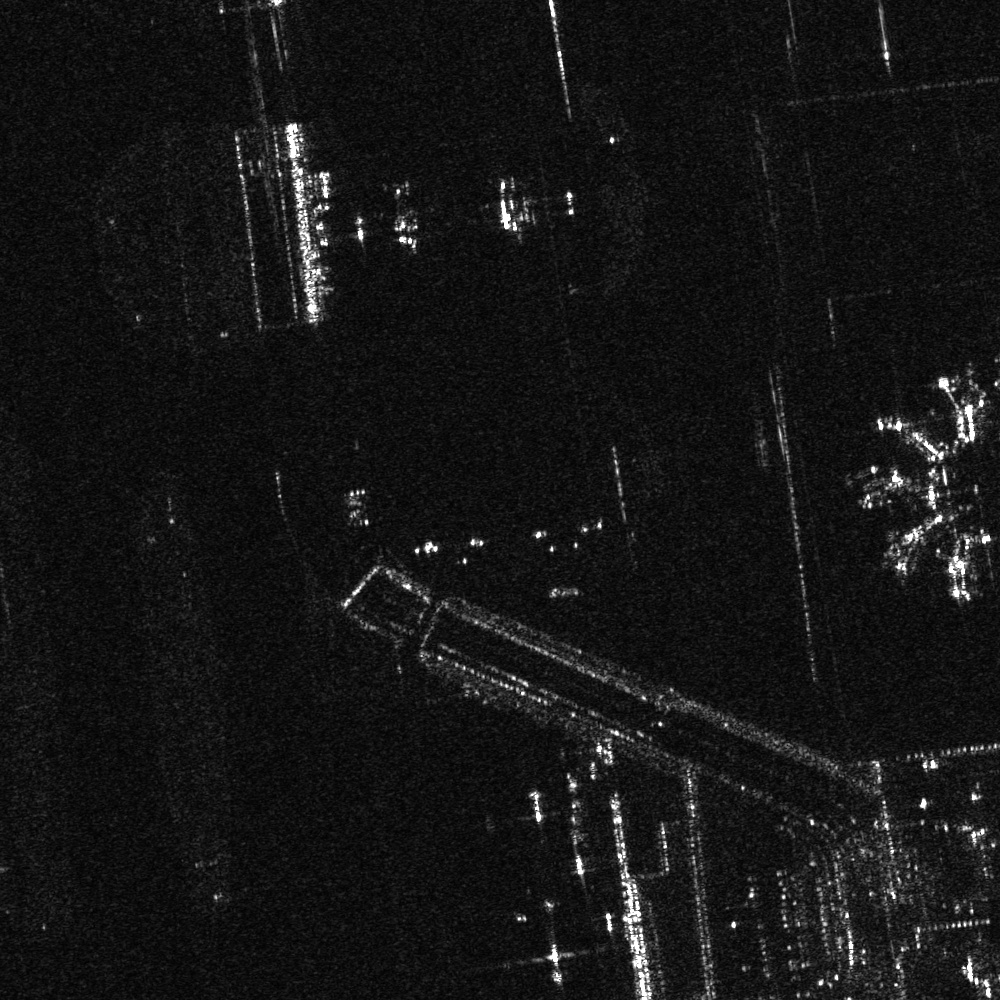A220: (372, 179, 437, 252)
